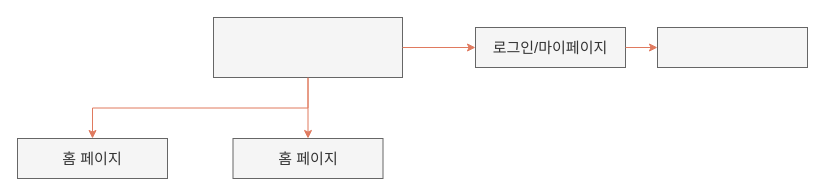
The diagram is 825 pixels wide and 196 high, and some of its shapes have lost their labels. Here are the shapes that lost their labels. From the top down, the centre of each, then its label:
point (307, 47): HOME
point (732, 47): 회원가입
